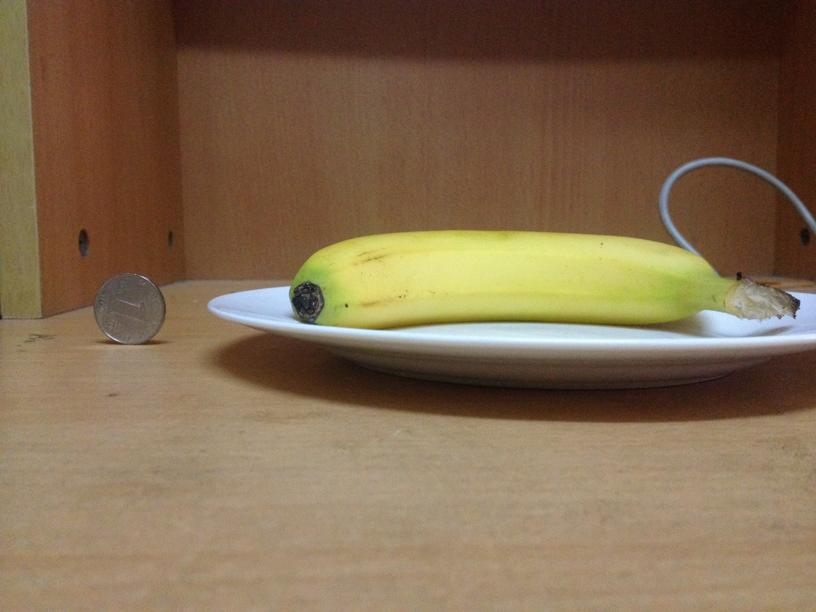banana: (287, 226, 728, 327)
coin: (95, 270, 166, 346)
